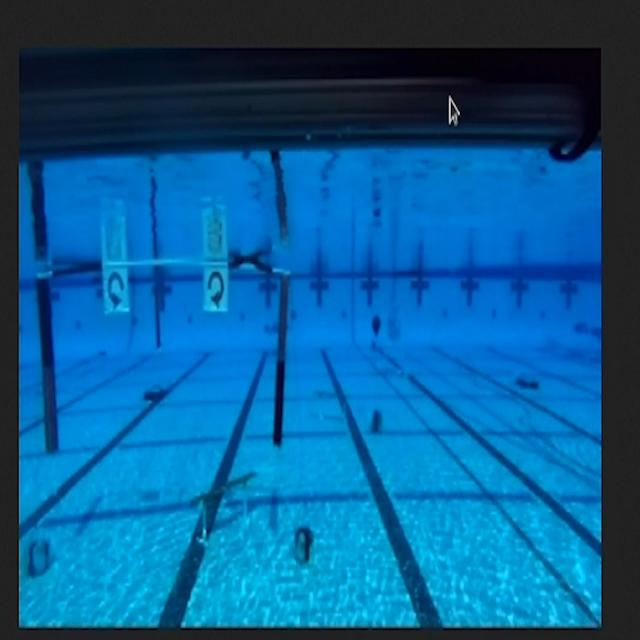Gate: (32, 260, 293, 460)
